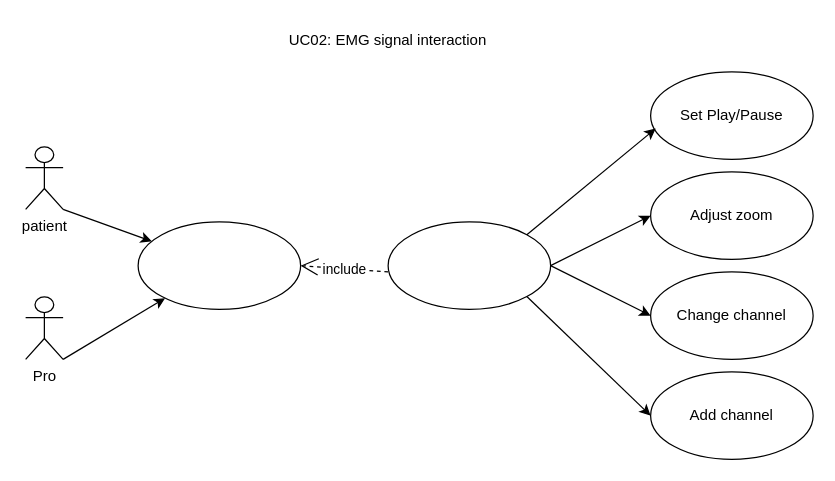
The diagram is 835 pixels wide and 481 high, and some of its shapes have lost their labels. The shapes that lost their labels are listed below. From the top down, each one's centre as x and y in pixels, then its label:
At point (219, 265): "Open EMG file".
At point (469, 265): "Display EMG signal".
